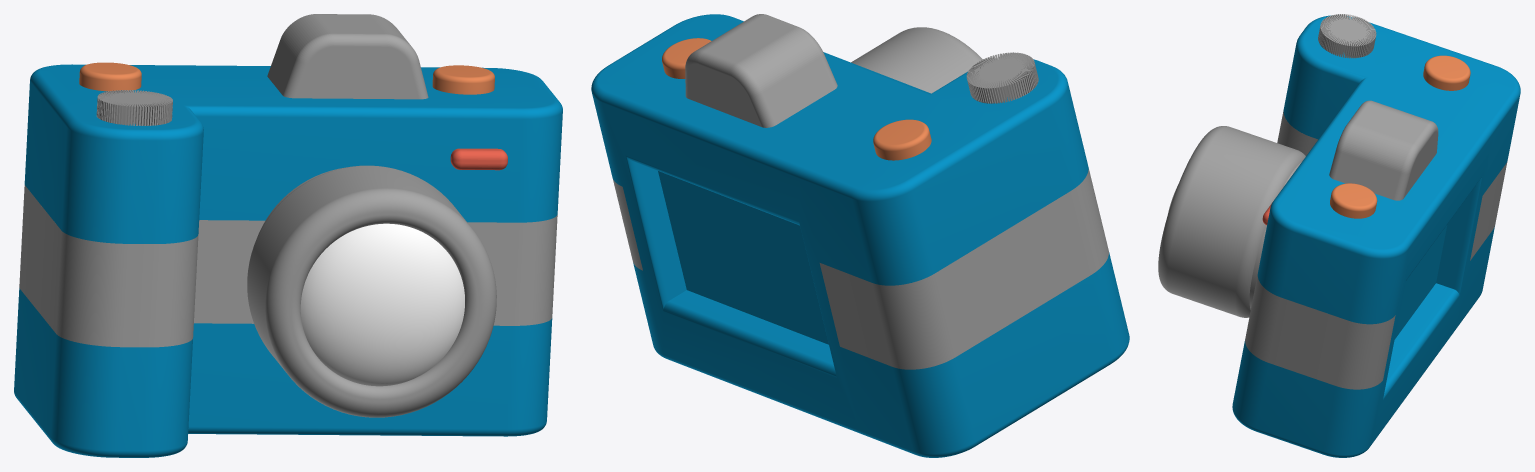
File: camera-3d-animated-icon-1112939624859.glb
3 views of the same model, side by side, from view 1: azimuth 30°, elevation 25°; view 2: azimuth 150°, elevation 25°; view 3: azimuth 270°, elevation 25° (orthographic). The views are drawn at different scales.
Visible parts, largest first — view 1: Cube.033, Cylinder.026, Sphere.006, Cube.034, Cylinder.027, Cylinder.029, Cylinder.030, Cube.035; view 2: Cube.033, Cube.034, Cylinder.026, Cylinder.027, Cylinder.030, Cylinder.029; view 3: Cube.033, Cylinder.026, Cube.034, Cylinder.027, Cylinder.029, Cylinder.030, Cylinder.025.
Boxes of the visible parts, left/top/right/bottom form: Cube.033: left=14, top=64, right=562, bottom=457; Cylinder.026: left=247, top=165, right=496, bottom=417; Sphere.006: left=300, top=223, right=464, bottom=386; Cube.034: left=267, top=14, right=428, bottom=99; Cylinder.027: left=96, top=90, right=172, bottom=125; Cylinder.029: left=432, top=65, right=494, bottom=94; Cylinder.030: left=79, top=62, right=141, bottom=91; Cube.035: left=450, top=148, right=507, bottom=170; Cube.033: left=591, top=14, right=1129, bottom=457; Cube.034: left=685, top=14, right=837, bottom=127; Cylinder.026: left=851, top=27, right=982, bottom=93; Cylinder.027: left=966, top=52, right=1038, bottom=103; Cylinder.030: left=873, top=119, right=931, bottom=160; Cylinder.029: left=662, top=38, right=711, bottom=78; Cube.033: left=1232, top=15, right=1520, bottom=457; Cylinder.026: left=1158, top=126, right=1305, bottom=317; Cube.034: left=1329, top=100, right=1438, bottom=200; Cylinder.027: left=1318, top=14, right=1376, bottom=58; Cylinder.029: left=1330, top=183, right=1377, bottom=218; Cylinder.030: left=1423, top=55, right=1470, bottom=90; Cylinder.025: left=1249, top=162, right=1301, bottom=309.
Bounding box in the file's own units: 1.76 × 1.27 × 1.4.
